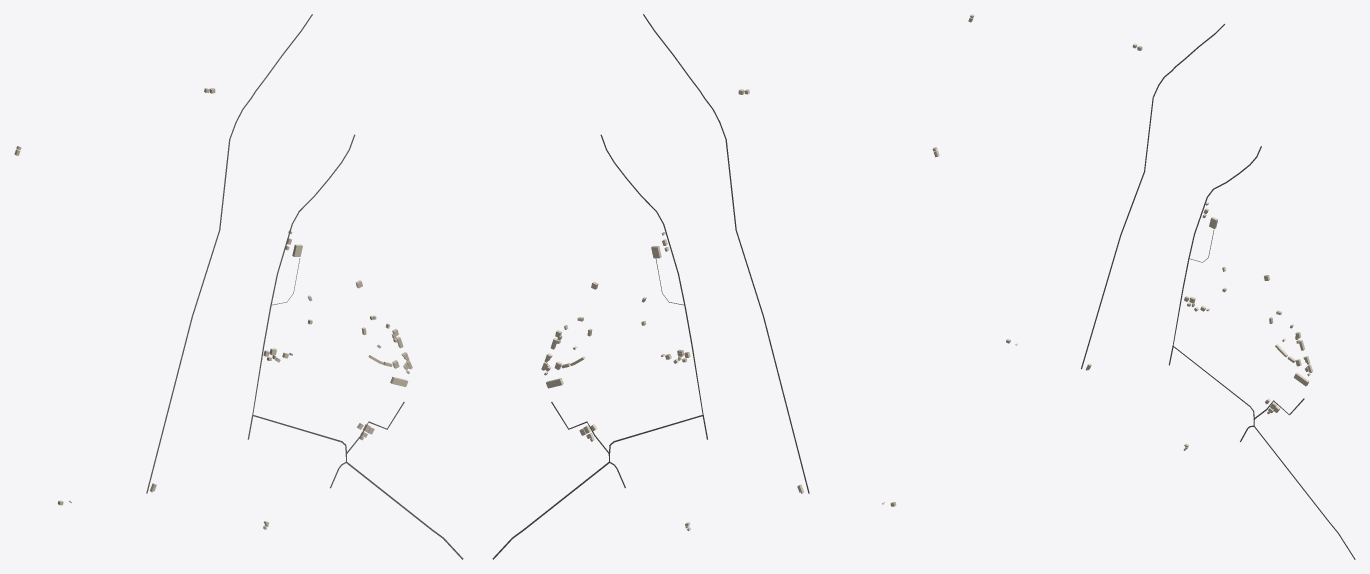
File: historic-palestine-14_38_3561_3325.glb
The picture shows the model from 3 angles, left to right: view 1: azimuth 30°, elevation 25°; view 2: azimuth 150°, elevation 25°; view 3: azimuth 330°, elevation 25°; orthographic projection. The views are drawn at different scales.
Parts seen in each view (by area): view 1: Road, Road .001; view 2: Road, Road .001; view 3: Road, Road .001.
Part boxes in pixels (x1,y1,x2,y2): Road: [252, 134, 463, 559]; Road .001: [158, 14, 312, 446]; Road: [492, 134, 703, 559]; Road .001: [643, 14, 797, 446]; Road: [1172, 146, 1355, 559]; Road .001: [1091, 24, 1224, 333].
Bounding box in the file's own units: 1068 × 1329 × 8.7.
